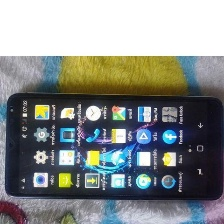phone: (2, 86, 224, 207)
